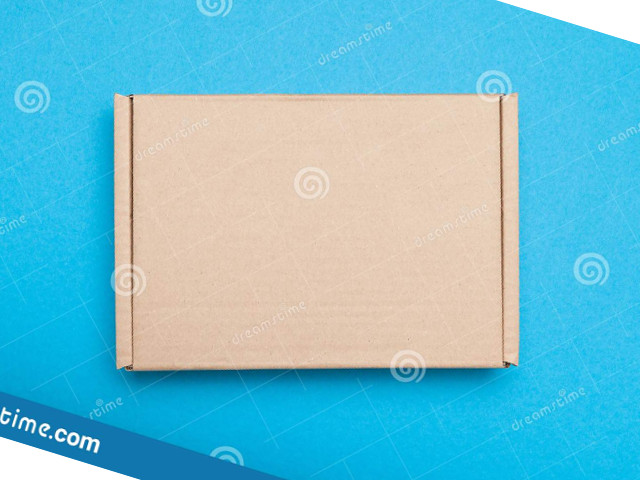cardboard: (112, 93, 517, 366)
